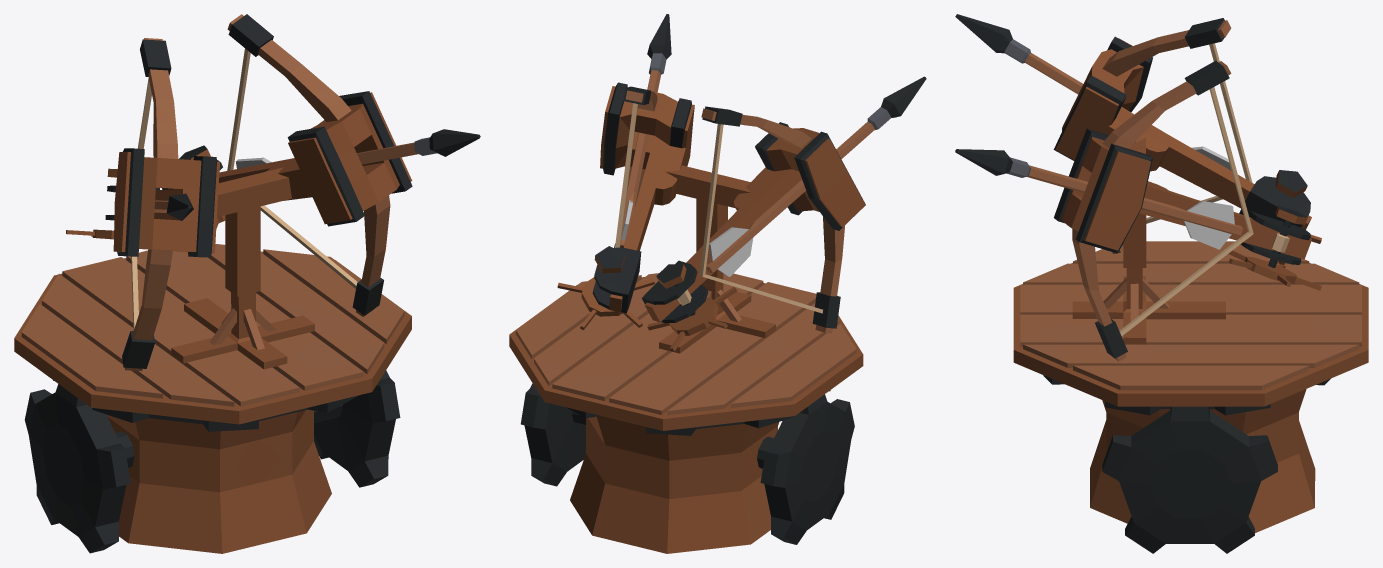
The model's file is xbow-4.glb.
3 views of the same model, side by side, from view 1: azimuth 30°, elevation 25°; view 2: azimuth 150°, elevation 25°; view 3: azimuth 270°, elevation 25° (orthographic). The views are drawn at different scales.
Parts seen in each view (by area): view 1: Crossbow004; view 2: Crossbow004; view 3: Crossbow004.
Boxes of the visible parts, x1=… form: Crossbow004: x1=14, y1=14, x2=480, y2=553; Crossbow004: x1=509, y1=14, x2=926, y2=553; Crossbow004: x1=955, y1=14, x2=1368, y2=553.
Size of the model in its own units: 1.95 by 2.7 by 2.27.
Materials: 1 (1 with a texture image).
